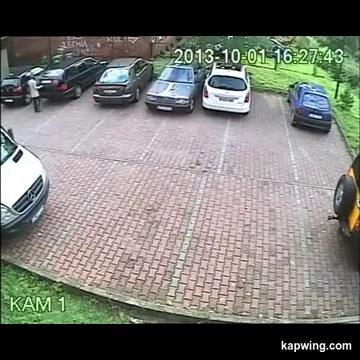car: (0, 126, 49, 236), (328, 153, 359, 267), (145, 61, 206, 112), (39, 56, 107, 99), (93, 57, 153, 104), (202, 62, 250, 114), (287, 81, 332, 132), (1, 65, 43, 105)
